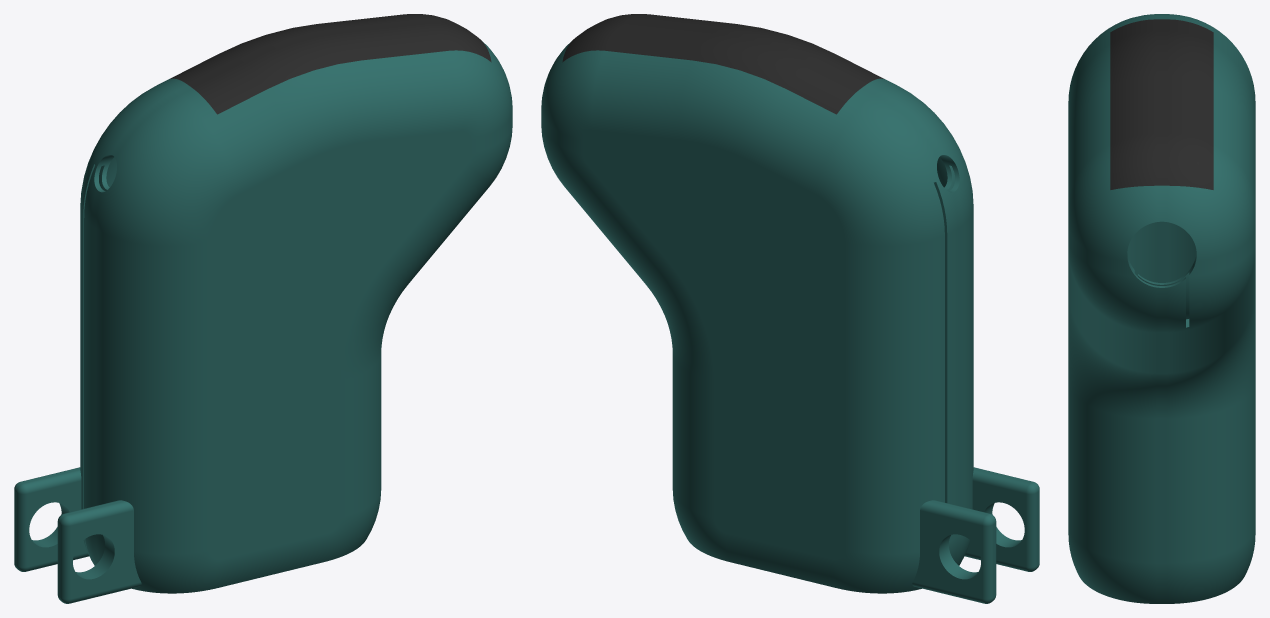
File: funda_A_SM.glb
3 views of the same model, side by side, from view 1: azimuth 30°, elevation 25°; view 2: azimuth 150°, elevation 25°; view 3: azimuth 270°, elevation 25° (orthographic). The views are drawn at different scales.
Visible parts, largest first — view 1: funda, membrana; view 2: funda, membrana; view 3: funda, membrana.
Boxes of the visible parts, x1,y1,x2,y2 form: funda: (14, 41, 512, 603); membrana: (170, 14, 491, 114); funda: (541, 41, 1039, 603); membrana: (562, 14, 883, 114); funda: (1068, 14, 1255, 603); membrana: (1110, 19, 1213, 189).
Size of the model in its own units: 32.97 by 33.5 by 10.9.
